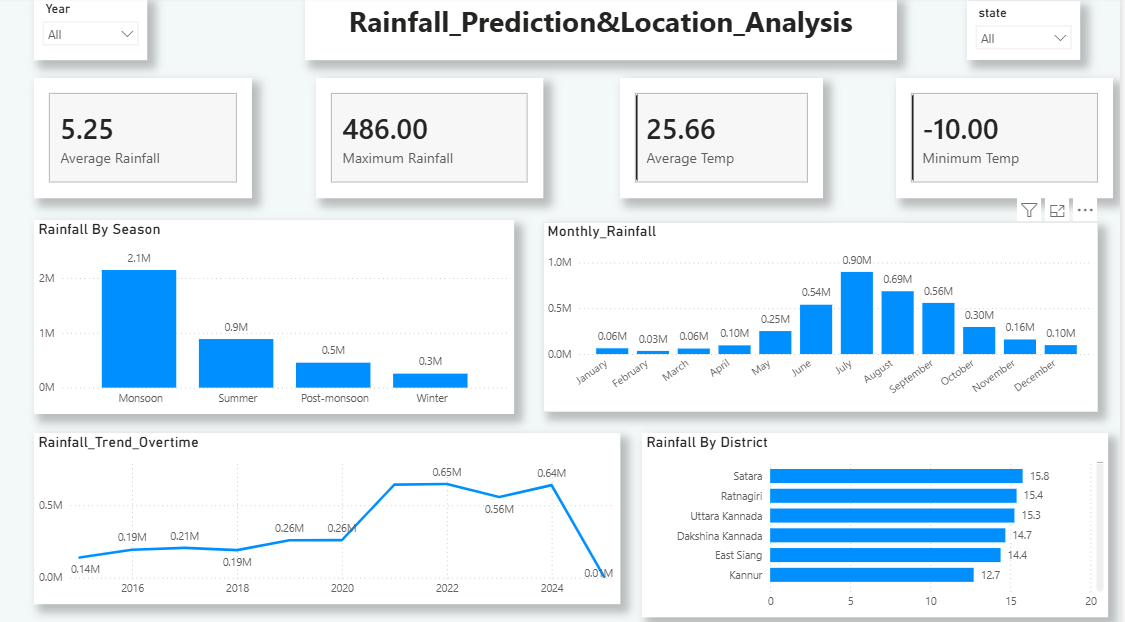

The page's visual inventory and layout, read from the dashboard file:
{"tool":"powerbi","page":{"name":"Rainfall_Prediction","canvas":[1280,720],"ordinal":2},"visuals":[{"type":"textbox","box":[351.9,0,673.8,71.5],"z":0},{"type":"cardVisual","fields":{"Data":["Avg(Sheet1.rainfall)"]},"box":[43.3,92.3,248.4,136.7],"z":1000},{"type":"cardVisual","fields":{"Data":["Max(Sheet1.rainfall)"]},"box":[364.6,92.3,258.6,136.7],"z":2000},{"type":"cardVisual","fields":{"Data":["Avg(Sheet1.avg_temp)"]},"box":[710.9,92.3,231.3,136.7],"z":3000},{"type":"cardVisual","fields":{"Data":["Min(Sheet1.avg_temp)"]},"box":[1025.3,92.3,247.2,136.7],"z":4000},{"type":"clusteredBarChart","title":"Rainfall By District","fields":{"Category":["Sheet1.district"],"Y":["Avg(Sheet1.rainfall)"]},"box":[735.9,496.7,530.9,209.6],"z":5000},{"type":"lineChart","title":"Rainfall_Trend_Overtime","fields":{"Category":["Sheet1.date_of_record.Variation.Date Hierarchy.Year","Sheet1.date_of_record.Variation.Date Hierarchy.Quarter","Sheet1.date_of_record.Variation.Date Hierarchy.Month","Sheet1.date_of_record.Variation.Date Hierarchy.Day"],"Y":["Sum(Sheet1.rainfall)"]},"box":[43.3,496.7,667.6,194.8],"z":6000},{"type":"clusteredColumnChart","title":"Rainfall By Season","fields":{"Category":["Sheet1.season"],"Y":["Sum(Sheet1.rainfall)"]},"box":[43.3,254.1,546.8,221],"z":7000},{"type":"clusteredColumnChart","title":" Monthly_Rainfall","fields":{"Y":["Sum(Sheet1.rainfall)"],"Category":["Sheet1.Month Name"]},"box":[623.2,256.3,632.3,216.5],"z":8000},{"type":"slicer","fields":{"Values":["Sheet1.Year"]},"box":[43.3,0,128.7,71.8],"z":9000},{"type":"slicer","fields":{"Values":["Sheet1.state"]},"box":[1106.2,4.6,128.7,67.2],"z":10000}]}

Visuals, with their boxes in screenshot pixels (x1, y1, x2, y2), scaled from the page's 1280x720 canvas onto the 1125x622 screenshot:
textbox: detection(309, 0, 901, 62)
cardVisual - Avg(Sheet1.rainfall): detection(38, 80, 256, 198)
cardVisual - Max(Sheet1.rainfall): detection(320, 80, 548, 198)
cardVisual - Avg(Sheet1.avg_temp): detection(625, 80, 828, 198)
cardVisual - Min(Sheet1.avg_temp): detection(901, 80, 1118, 198)
"Rainfall By District" clusteredBarChart: detection(647, 429, 1113, 610)
"Rainfall_Trend_Overtime" lineChart: detection(38, 429, 625, 597)
"Rainfall By Season" clusteredColumnChart: detection(38, 220, 519, 410)
" Monthly_Rainfall" clusteredColumnChart: detection(548, 221, 1103, 408)
slicer - Sheet1.Year: detection(38, 0, 151, 62)
slicer - Sheet1.state: detection(972, 4, 1085, 62)
